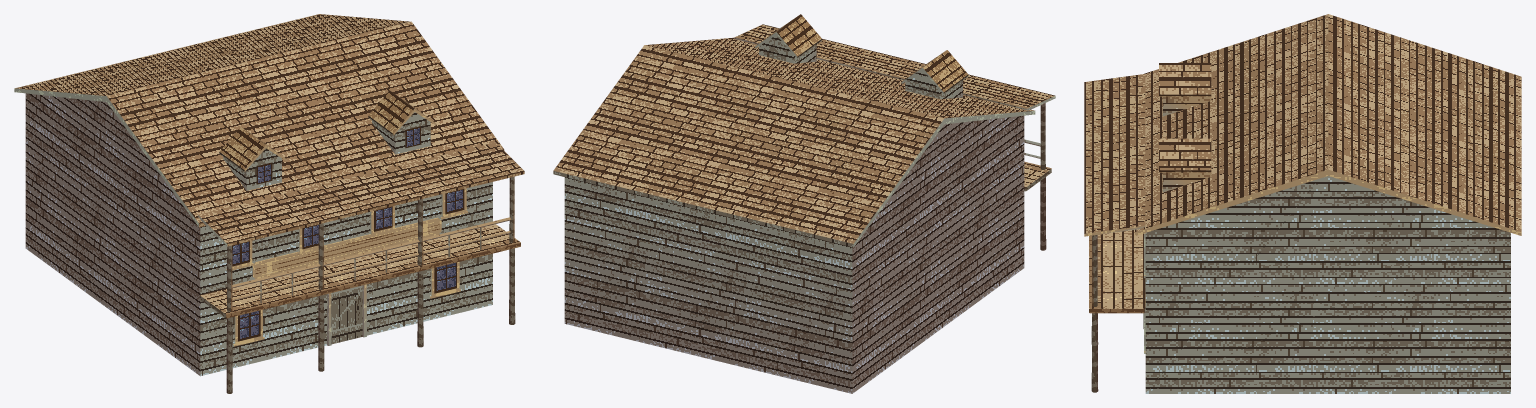
Rendered from wtown.hotel__grand.glb.
The picture shows the model from 3 angles, left to right: view 1: azimuth 30°, elevation 25°; view 2: azimuth 150°, elevation 25°; view 3: azimuth 270°, elevation 25°; orthographic projection. The views are drawn at different scales.
Parts seen in each view (by area): view 1: kit_body, kit_roof, kit_veranda, kit_veranda_roof, kit_card_panes, kit_dormer_roofs, kit_dormers, kit_windows, kit_trim; view 2: kit_body, kit_roof, kit_veranda_roof, kit_dormer_roofs, kit_dormers, kit_veranda; view 3: kit_body, kit_roof, kit_veranda_roof, kit_veranda, kit_dormer_roofs, kit_dormers.
Part boxes in pixels (x1,y1,x2,y2): kit_body: (25,93,492,376); kit_roof: (14,14,504,227); kit_veranda: (199,176,520,393); kit_veranda_roof: (198,142,524,246); kit_card_panes: (232,126,464,344); kit_dormer_roofs: (219,90,436,171); kit_dormers: (223,112,430,190); kit_windows: (226,188,467,346); kit_trim: (252,217,441,345); kit_body: (564,115,1024,393); kit_roof: (553,37,1035,247); kit_veranda_roof: (734,24,1055,110); kit_dormer_roofs: (755,14,968,93); kit_dormers: (759,34,962,99); kit_veranda: (1024,103,1051,250); kit_body: (1145,176,1510,393); kit_roof: (1135,14,1521,235); kit_veranda_roof: (1084,74,1145,236); kit_veranda: (1089,230,1145,392); kit_dormer_roofs: (1159,63,1211,172); kit_dormers: (1162,96,1211,192).
Bounding box in the file's own units: 12.1 × 8.25 × 14.37.
10 materials, 10 textured.
